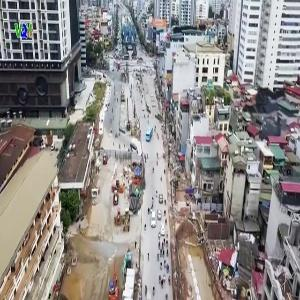drone: (236, 76, 298, 138)
